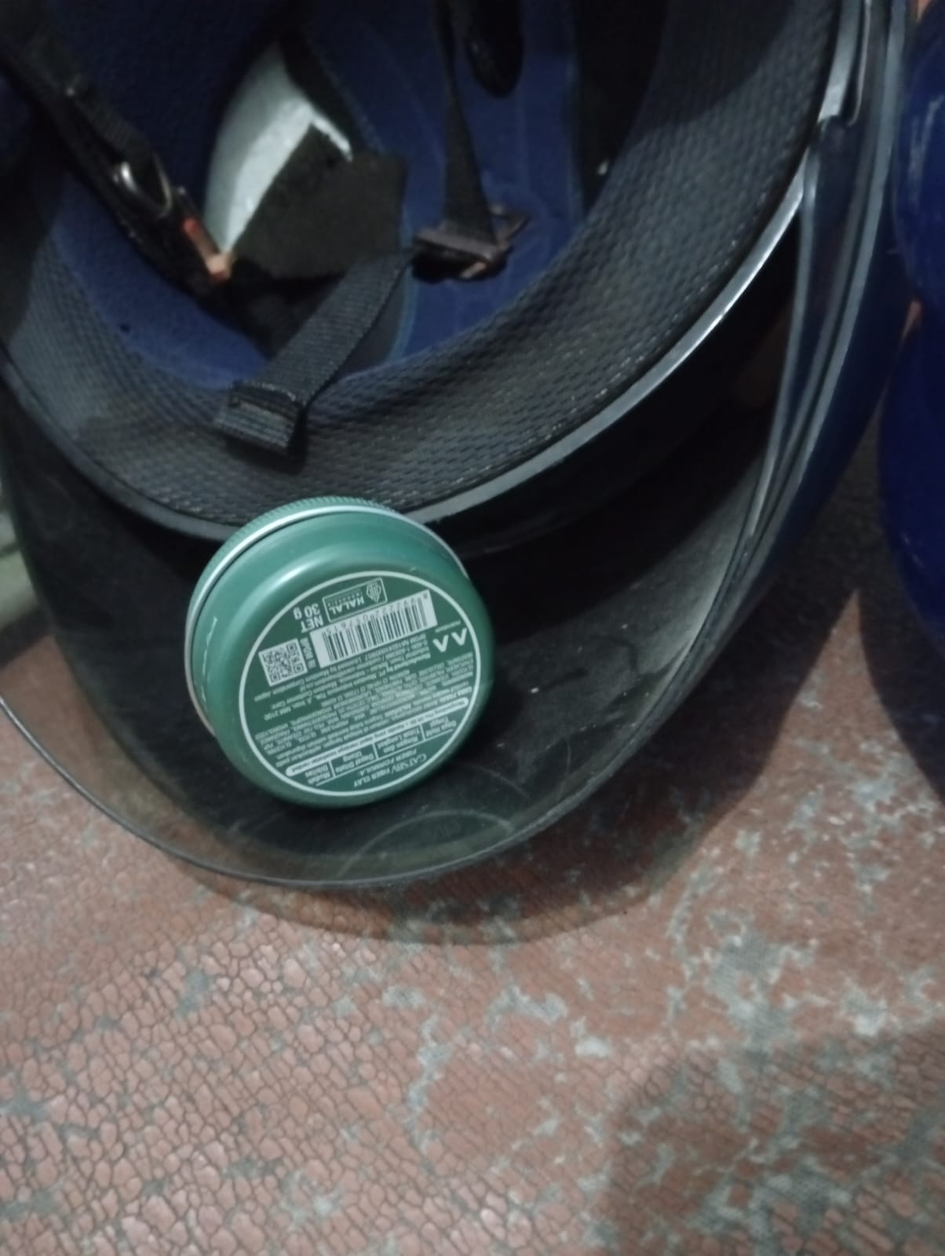Minyak_Rambut: (128, 479, 556, 837)
